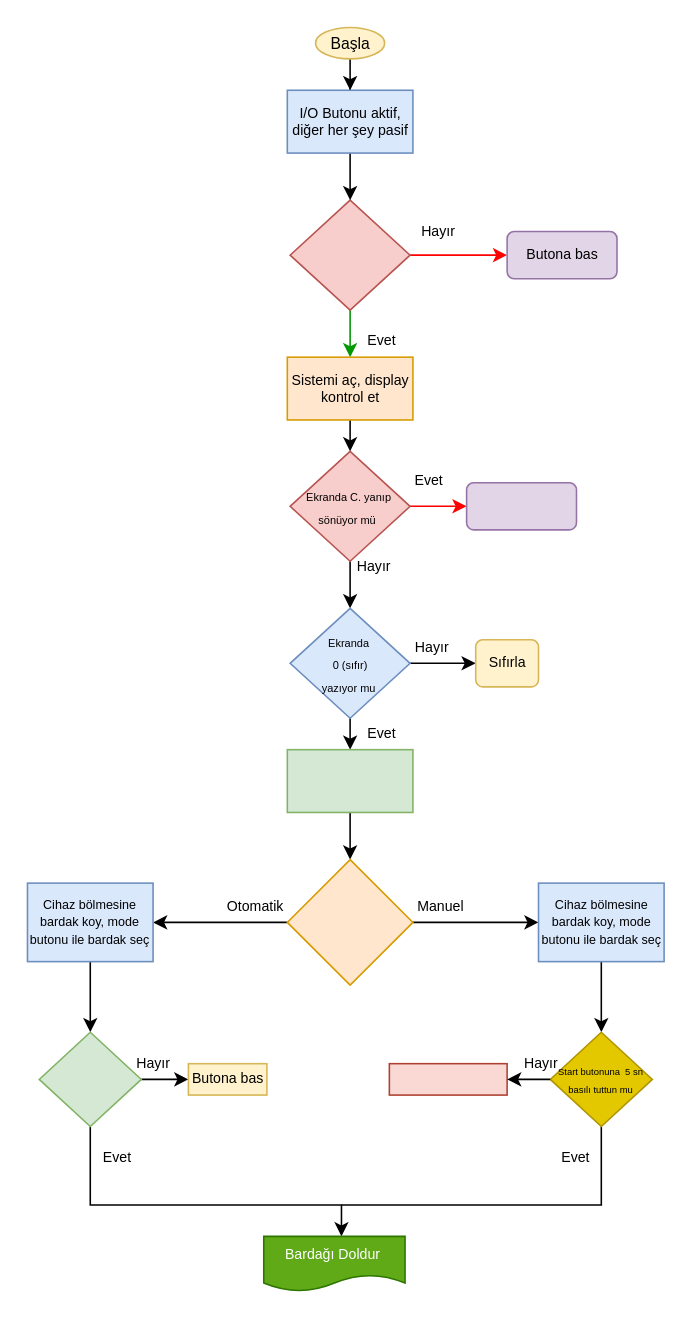
Some shapes in this 692 by 1319 pixel diagram are drawn without their labels. Here are the shapes that lost their labels. From the top down, the box of each, then its label:
(289, 199, 410, 310): I/O butonuna basildi mi
(465, 481, 577, 530): Kalibrasyon yap
(286, 748, 413, 812): Mod seçimi için bekle
(286, 858, 413, 985): Nasıl doldurmak istediğin seçildi mi
(38, 1031, 141, 1126): Start butonuna basildi mi
(388, 1062, 507, 1095): Butona basılı tut
